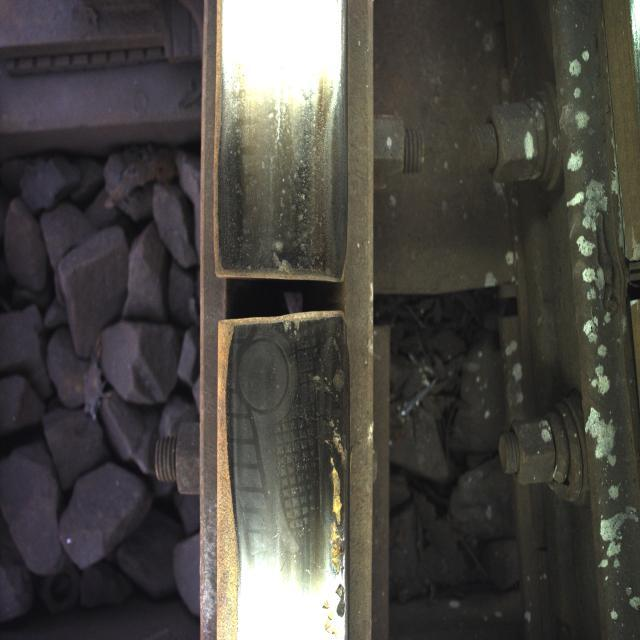spalling: (195, 239, 380, 371)
